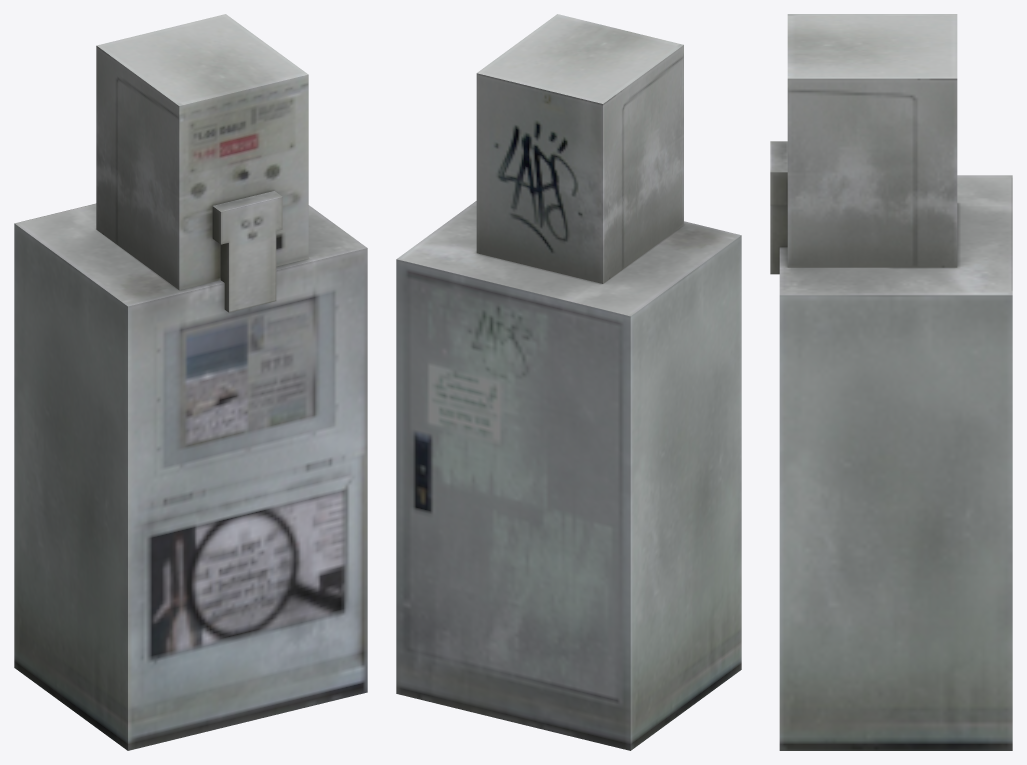
The model's file is newspaper.FBX.
3 renders of one model, left to right at view 1: azimuth 30°, elevation 25°; view 2: azimuth 150°, elevation 25°; view 3: azimuth 270°, elevation 25°, orthographic. The views are drawn at different scales.
Parts seen in each view (by area): view 1: prop_newspaper_LOD0; view 2: prop_newspaper_LOD0; view 3: prop_newspaper_LOD0.
Part boxes in pixels (<box>): prop_newspaper_LOD0: <box>14,14,367,750</box>; prop_newspaper_LOD0: <box>396,14,741,750</box>; prop_newspaper_LOD0: <box>770,14,1012,750</box>.
Size of what is drawn, in the model's own units: 0.5754 by 1.44 by 0.4908.
